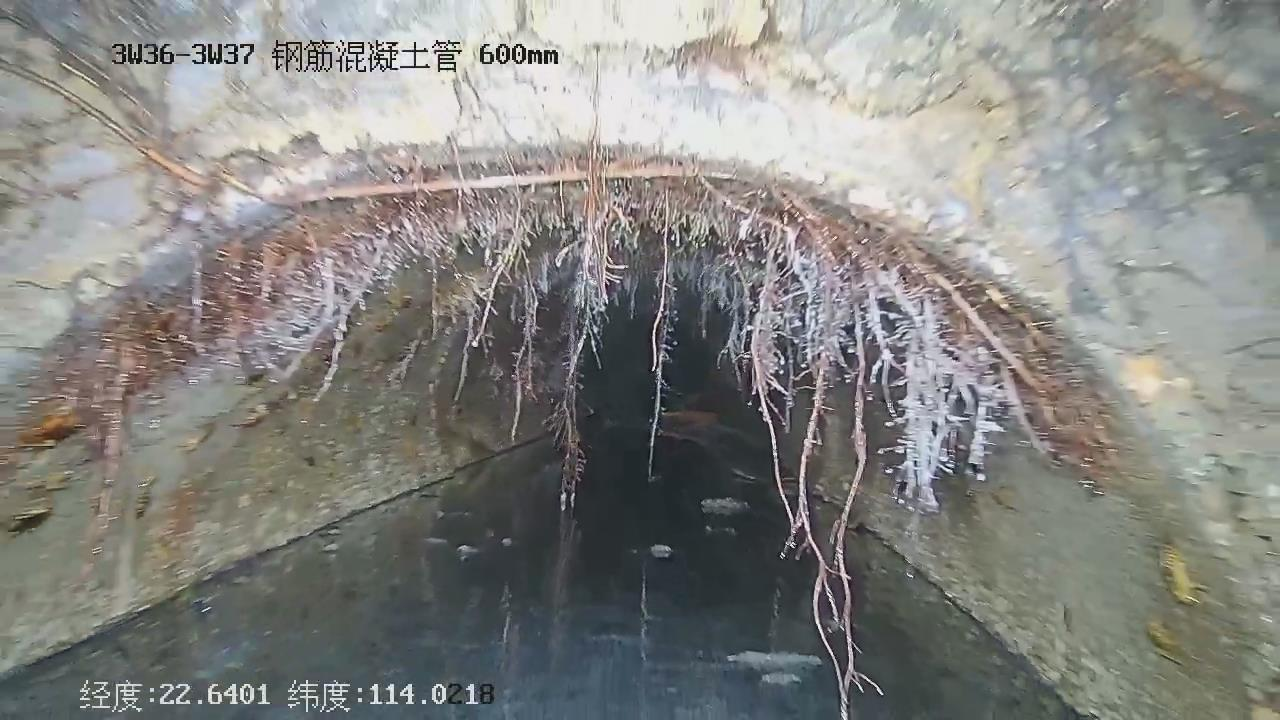SG: (88, 150, 1104, 719), (111, 125, 271, 208)
